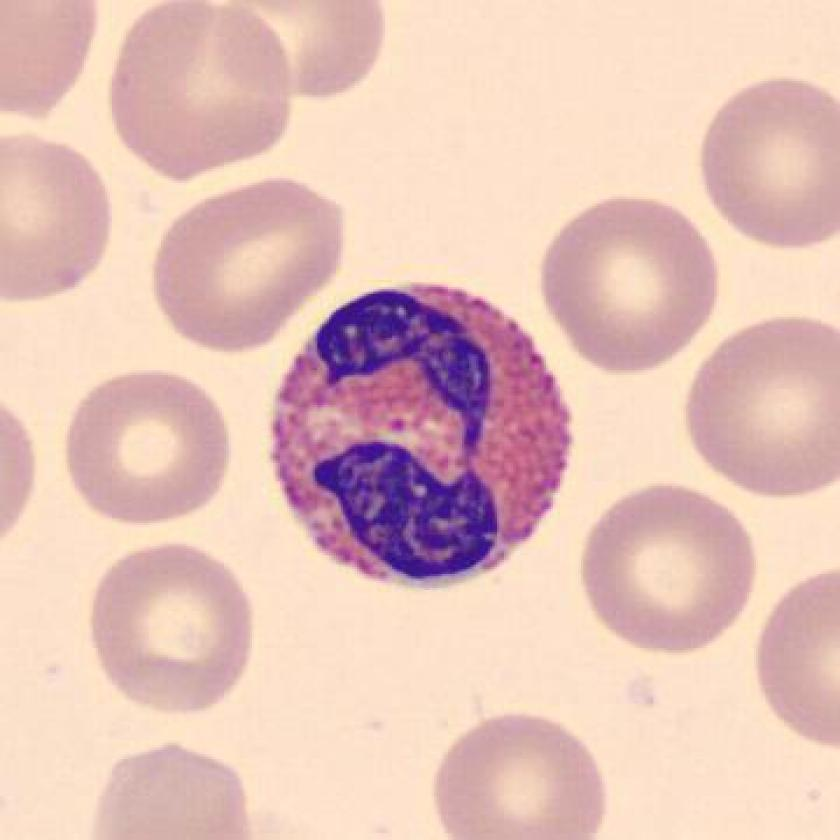eosinophil: (258, 265, 584, 605)
